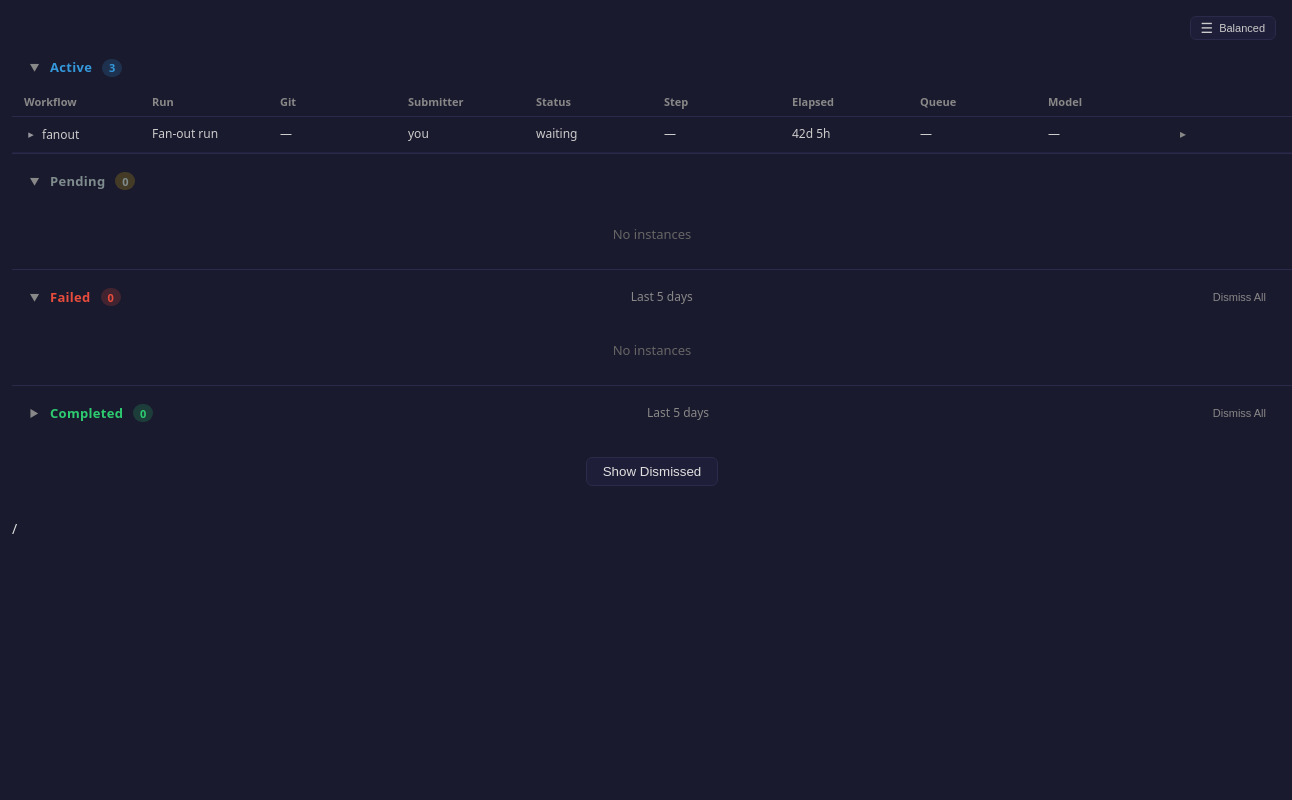
Test: QueueView live-run pane — redaction and errors › a graph-state failure is confined to the pane: the message shows and the queue rows stay
Step 1. Click the button named "Expand" → (1183, 134), box [1176, 125, 1190, 143]
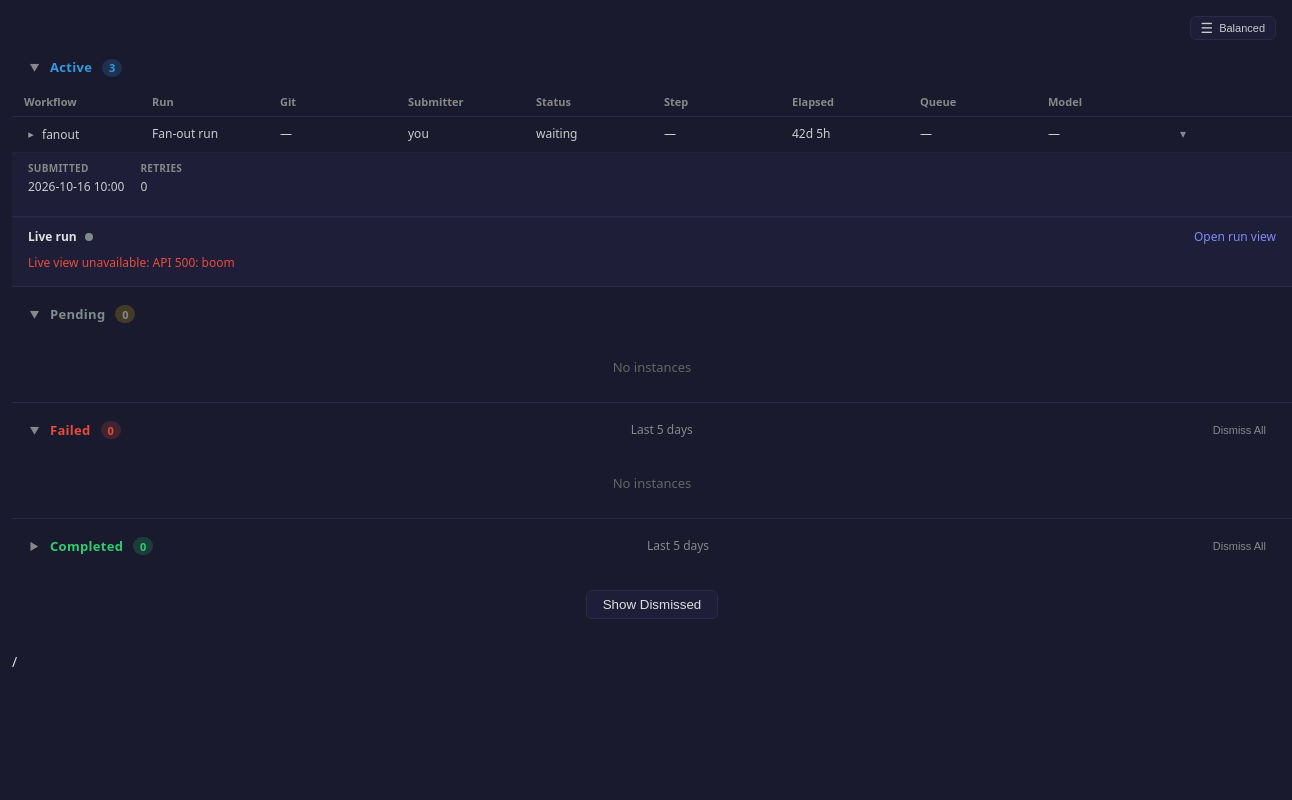
expect the text with test id "run-live-error" reads "Live view unavailable: API 500: boom": met, box [28, 254, 235, 270]
